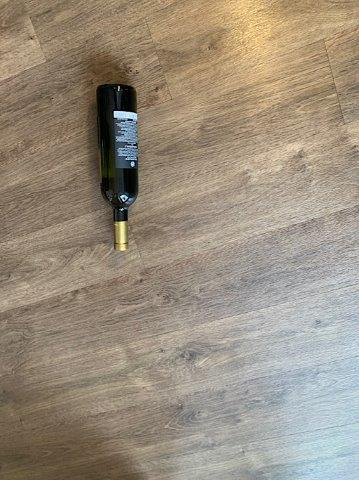botolkaca: (99, 83, 138, 251)
